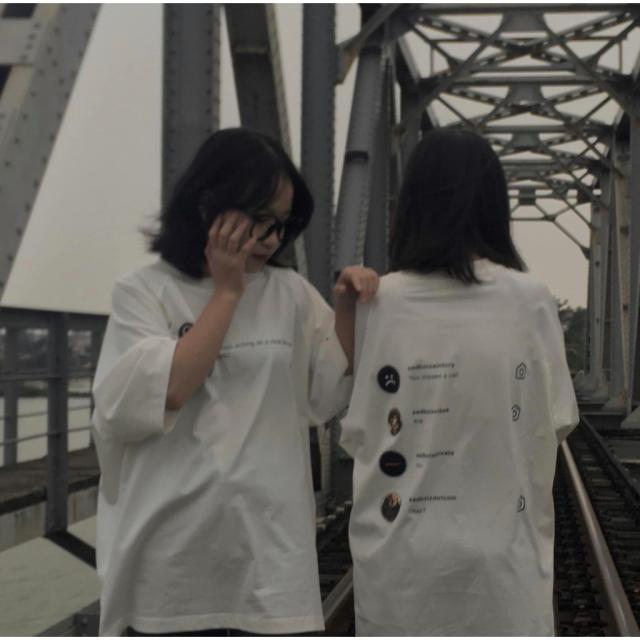Shirt: (90, 256, 346, 640), (352, 261, 574, 574)
